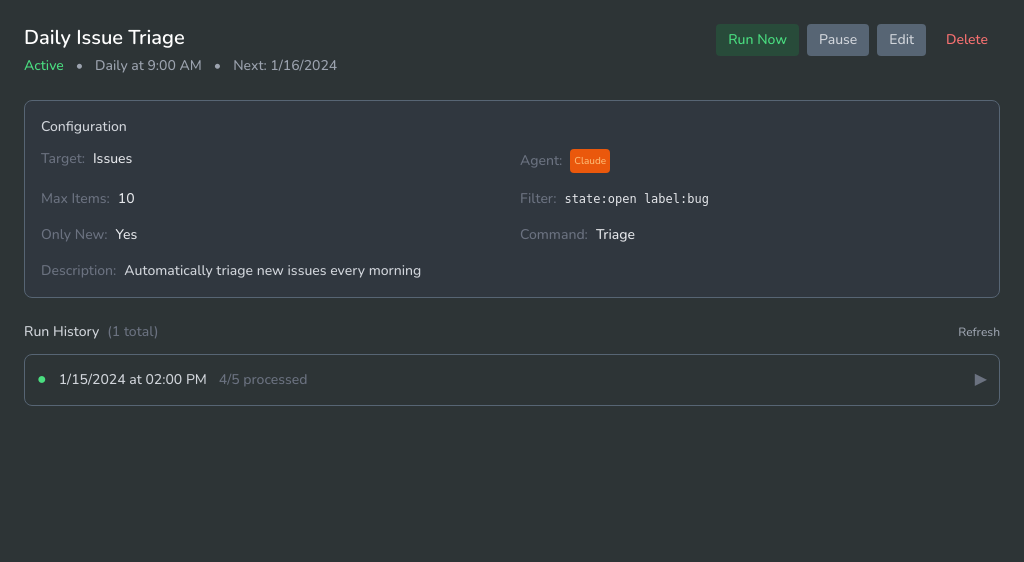
it: ScheduleDetail › Edit Mode › shows validation error for invalid cron expression
// Enter edit mode
Click the button "Edit". click: [902, 40]
box: x1=877 y1=24 x2=926 y2=56
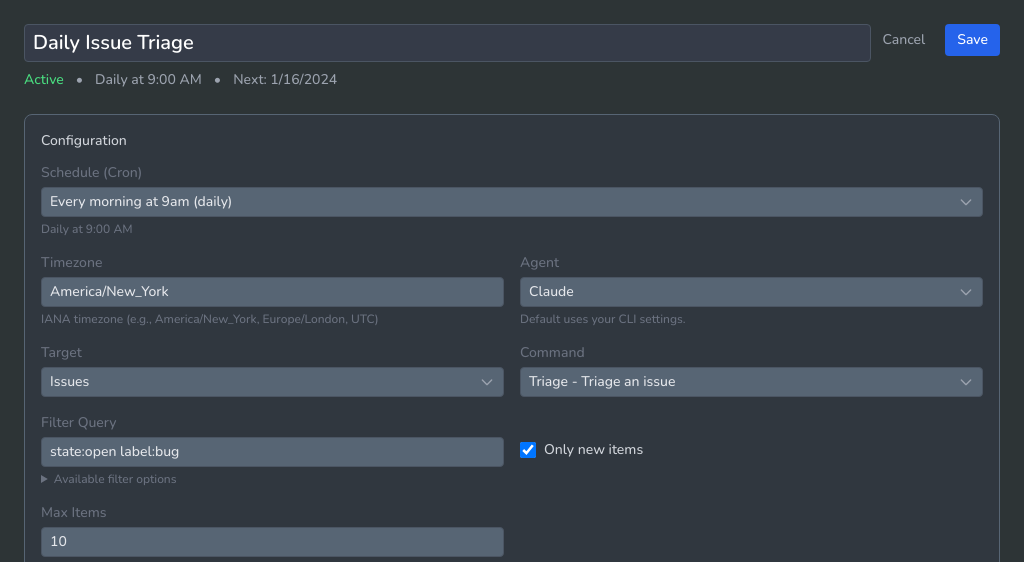
Expected: the button "Save" is shown, x1=945 y1=24 x2=1000 y2=56
Expected: the dropdown below "Schedule (Cron)" is shown
// Select custom cron option
Select "Custom..." in the dropdown below "Schedule (Cron)". click: [512, 202]
box: x1=41 y1=187 x2=983 y2=217
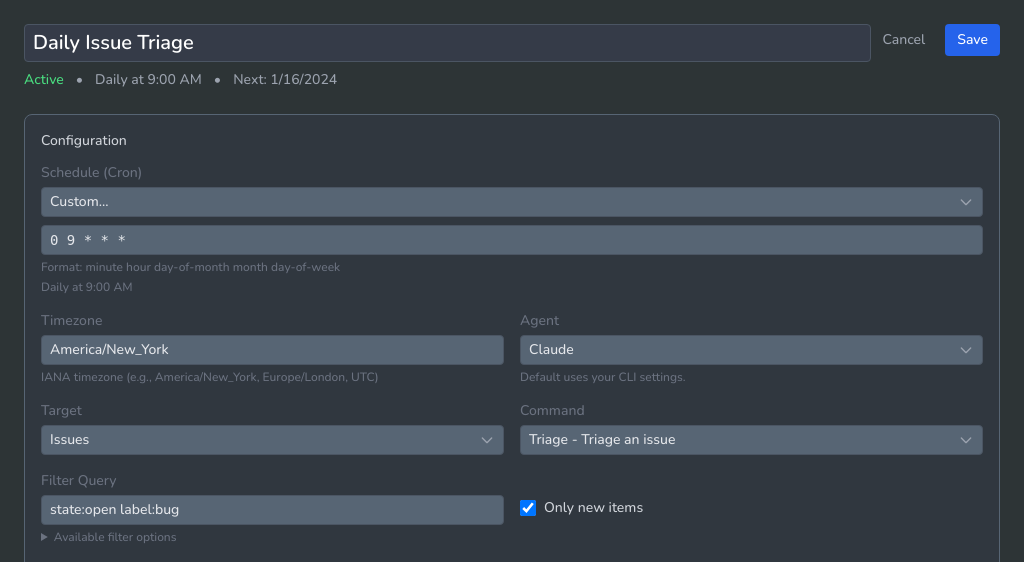
Expected: the field with placeholder "e.g., 30 14 * * 1,3,5" below "Schedule (Cron)" is shown
Replace the text in the field with placeholder "e.g., 30 14 * * 1,3,5" below "Schedule (Cron)" with "invalid cron". click: [512, 240]
box: x1=41 y1=225 x2=983 y2=255
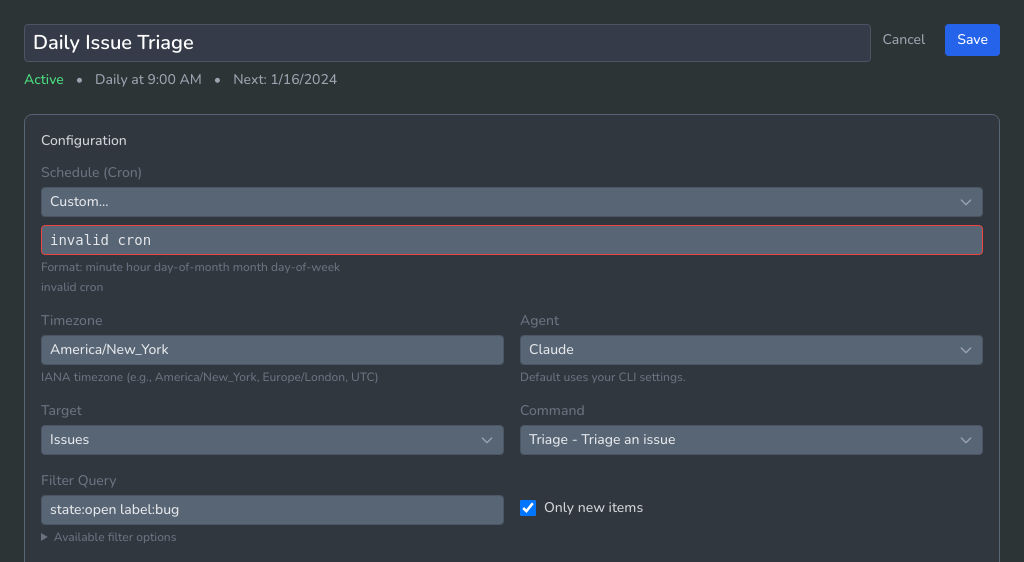
// Try to save
Click the button "Save". click: [973, 40]
box: x1=945 y1=24 x2=1000 y2=56
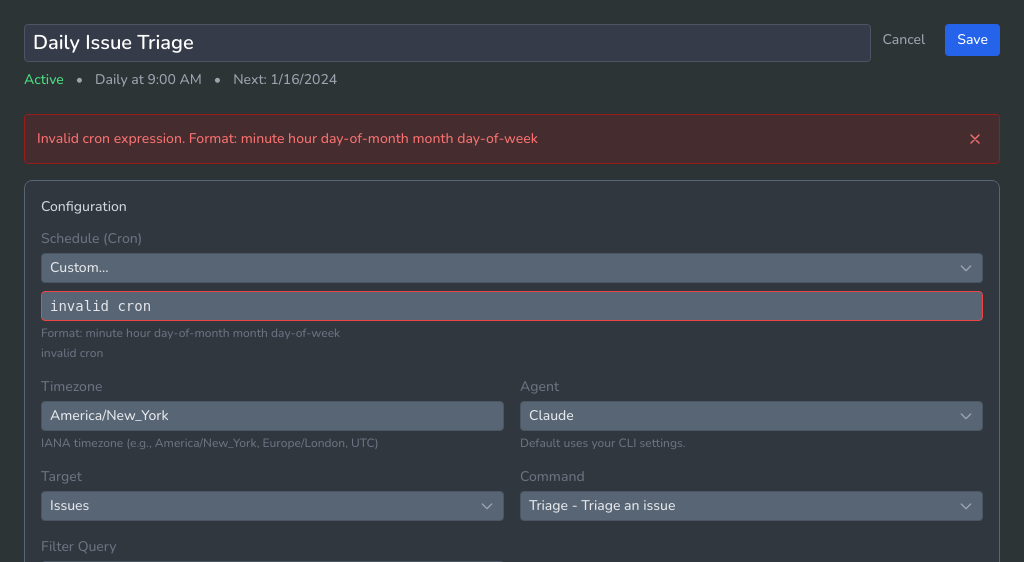
Expected: the text "Invalid cron expression" is shown, x1=37 y1=129 x2=538 y2=148
